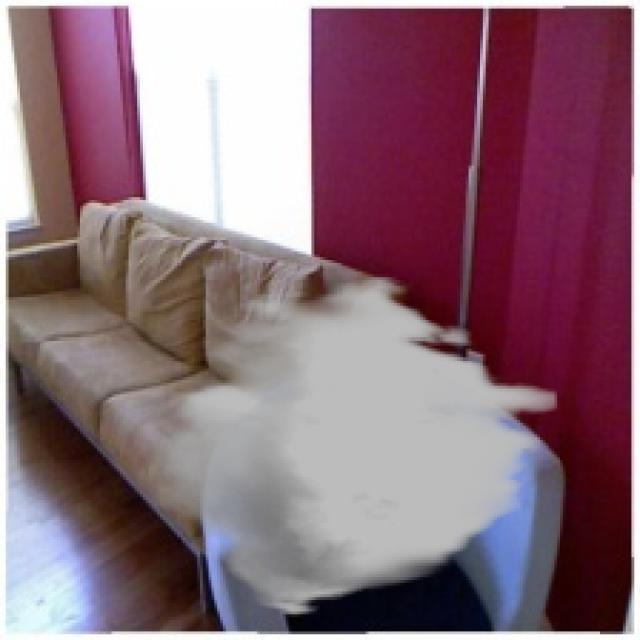Smoke: (148, 274, 558, 617)
